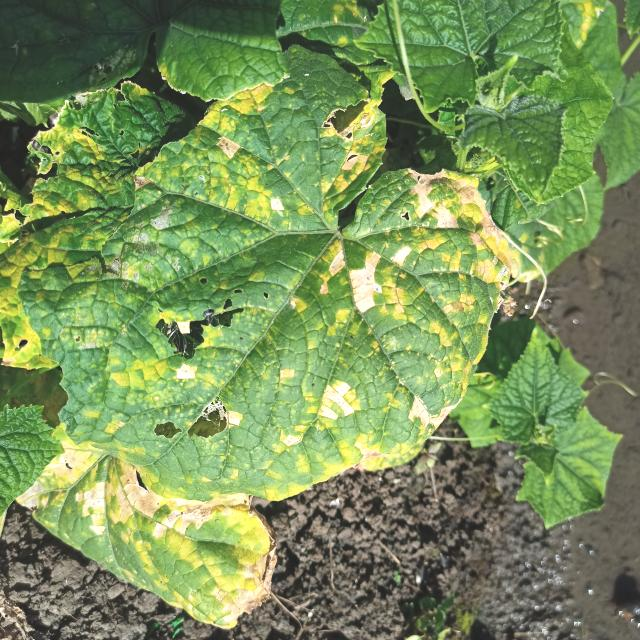disease_cucumber: (0, 74, 508, 494), (11, 441, 269, 616)
